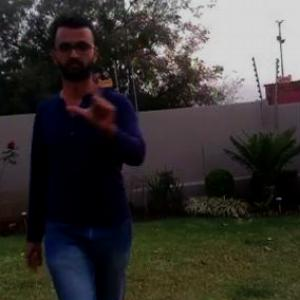land_hand: (66, 72, 122, 134)
